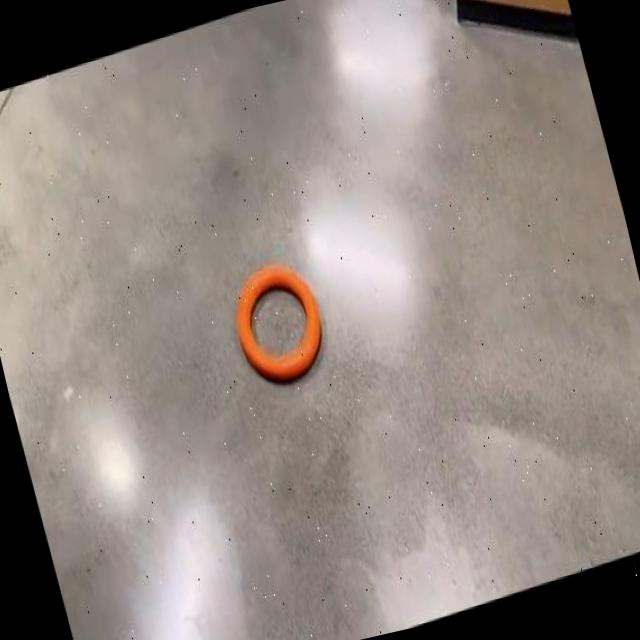note: (235, 263, 320, 380)
